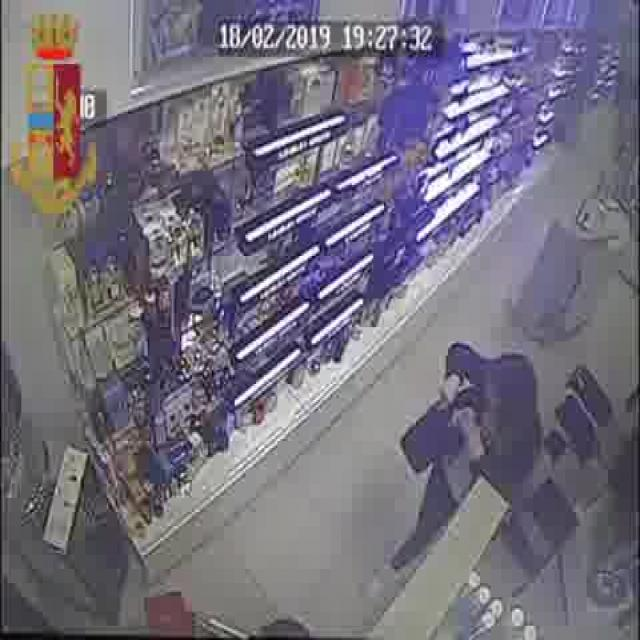persone: (393, 331, 548, 539)
